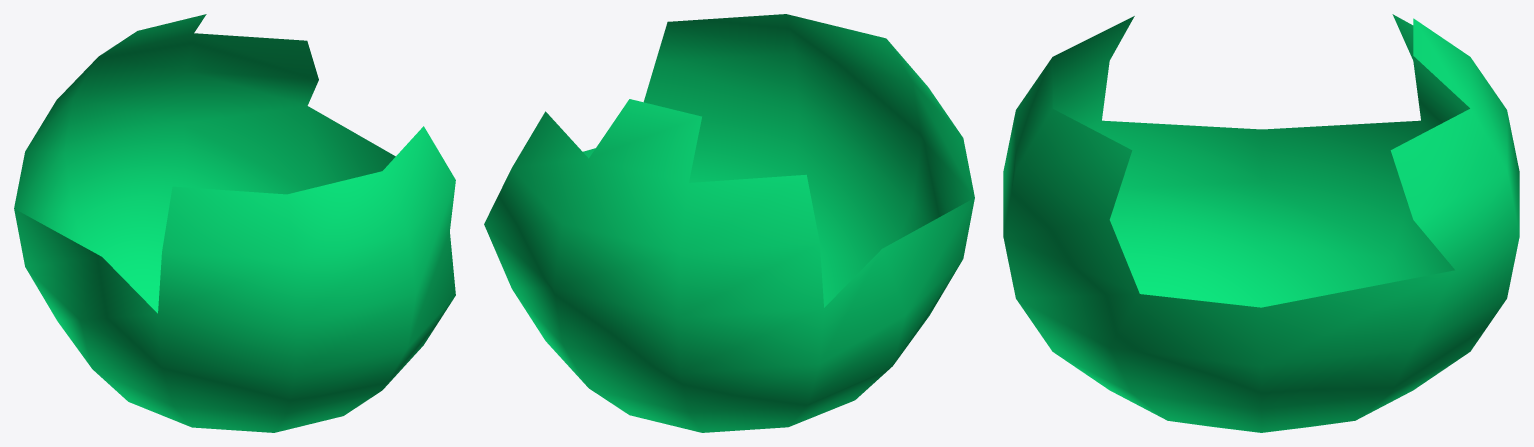
File: Phalactory1.fbx
3 views of the same model, side by side, from view 1: azimuth 30°, elevation 25°; view 2: azimuth 150°, elevation 25°; view 3: azimuth 270°, elevation 25° (orthographic). The views are drawn at different scales.
Parts seen in each view (by area): view 1: polySurface5; view 2: polySurface5; view 3: polySurface5.
Part boxes in pixels (x1=…): polySurface5: x1=14, y1=14, x2=455, y2=432; polySurface5: x1=484, y1=14, x2=974, y2=432; polySurface5: x1=1003, y1=14, x2=1519, y2=432.
Size of the model in its own units: 0.9766 by 0.8967 by 1.12.
